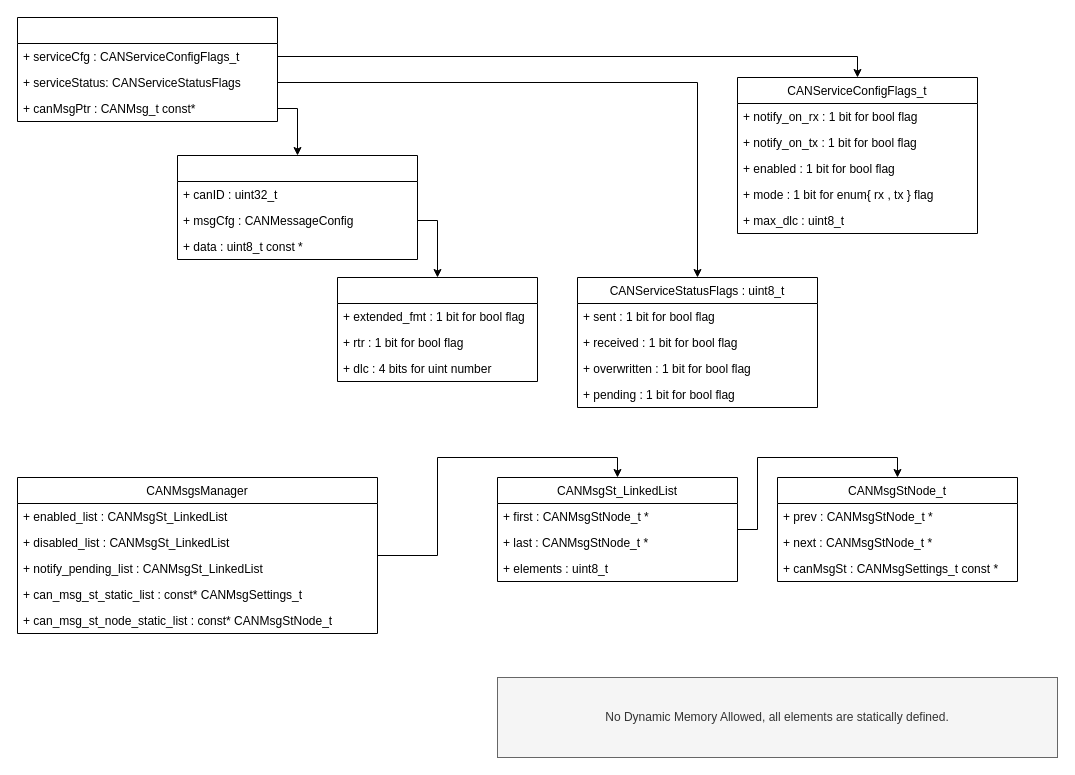
Some shapes in this 1075 by 775 pixel diagram are drawn without their labels. The box of each missing label's shape, as (x1, y1, x2, y2) in pixels:
CANMessageConfig : uint8_t: (336, 276, 538, 382)
CANMsg_t: (176, 154, 418, 260)
CANMsgSettings_t: (16, 16, 278, 122)
